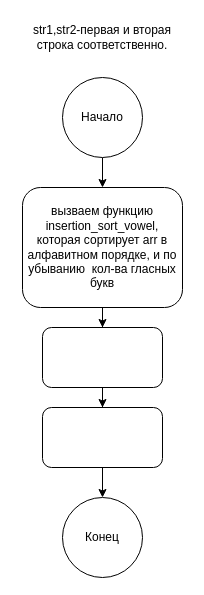
Some shapes in this 204 by 595 pixel diagram are drawn without their labels. Each missing label, with the box of its shape:
выводим полученную строку: (42, 326, 162, 388)
выводим только те слова, в которых больше чем 2 буквы "а": (42, 406, 162, 468)
